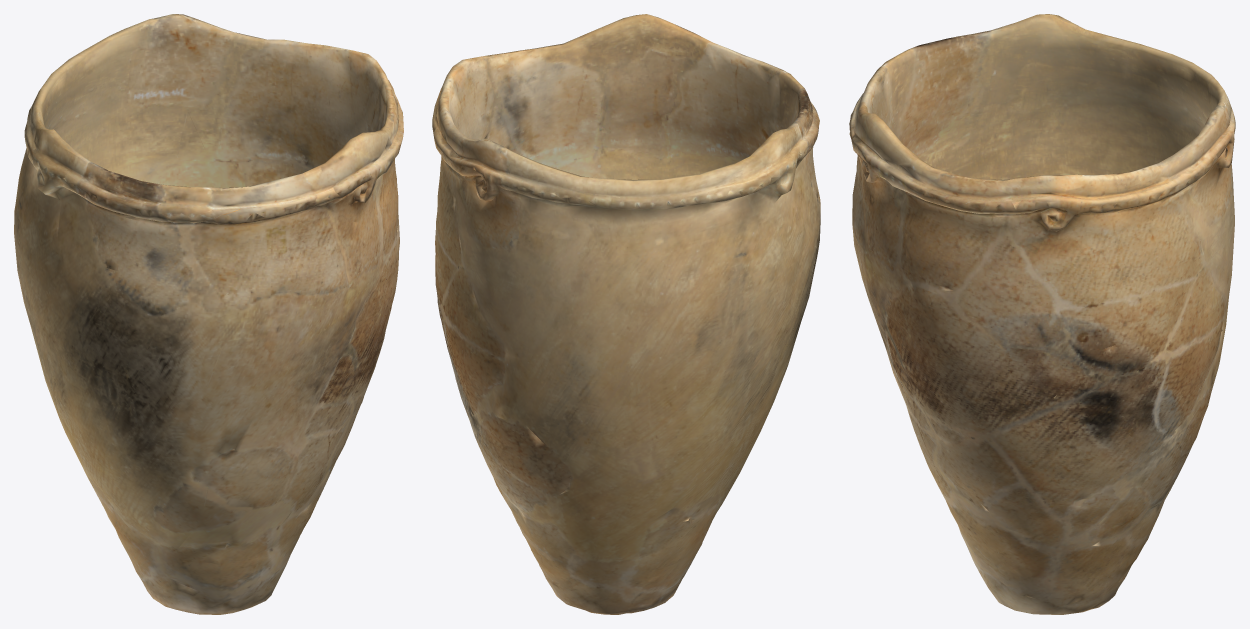
The picture shows the model from 3 angles, left to right: view 1: azimuth 30°, elevation 25°; view 2: azimuth 150°, elevation 25°; view 3: azimuth 270°, elevation 25°; orthographic projection.
Visible parts, largest first — view 1: NM0135_low; view 2: NM0135_low; view 3: NM0135_low.
Part boxes in pixels (x1,y1,x2,y2): NM0135_low: (14, 14, 403, 614); NM0135_low: (432, 14, 820, 614); NM0135_low: (849, 14, 1235, 614).
Size of the model in its own units: 350 by 488 by 340.
1 material, 1 textured.
